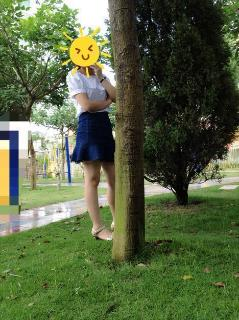short sleeve top: (66, 67, 113, 118)
skirt: (71, 111, 116, 164)
